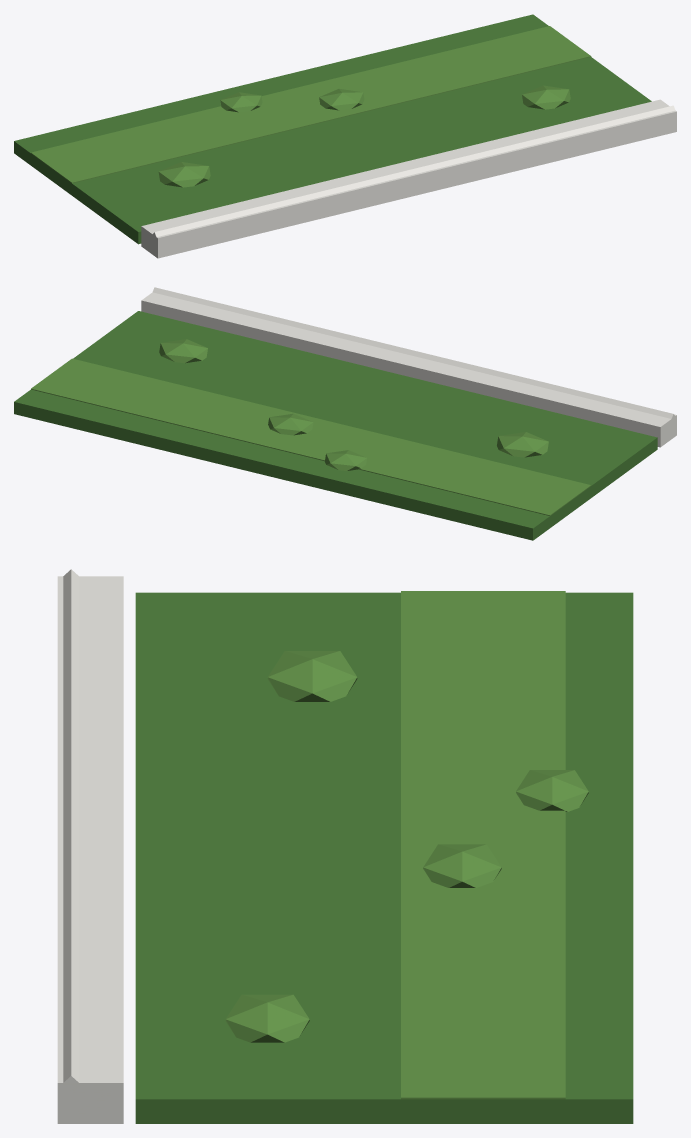
The model's file is lawn_edge_strip.glb.
The picture shows the model from 3 angles, top to bottom: view 1: azimuth 30°, elevation 25°; view 2: azimuth 150°, elevation 25°; view 3: azimuth 270°, elevation 25°; orthographic projection. The views are drawn at different scales.
Visible parts, largest first — view 1: lawn_edge_strip; view 2: lawn_edge_strip; view 3: lawn_edge_strip.
Part boxes in pixels (x1=…): lawn_edge_strip: x1=14, y1=14, x2=676, y2=258; lawn_edge_strip: x1=14, y1=287, x2=676, y2=540; lawn_edge_strip: x1=57, y1=569, x2=633, y2=1123.
Bounding box in the file's own units: 4 × 0.1768 × 1.92.
